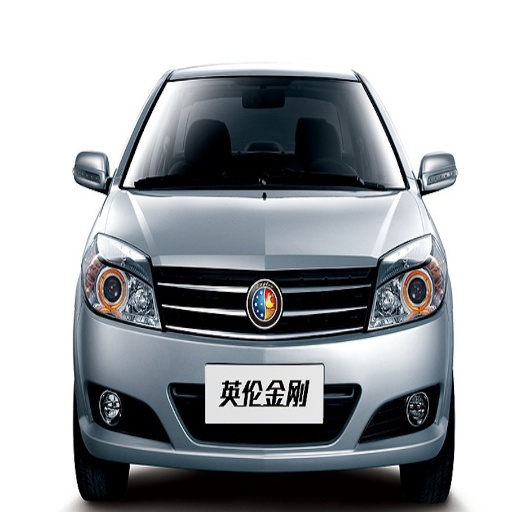front_bumper: (80, 305, 443, 471)
front_right_light: (82, 234, 162, 331)
hood: (105, 190, 427, 337)
left_mirror: (418, 152, 458, 195)
